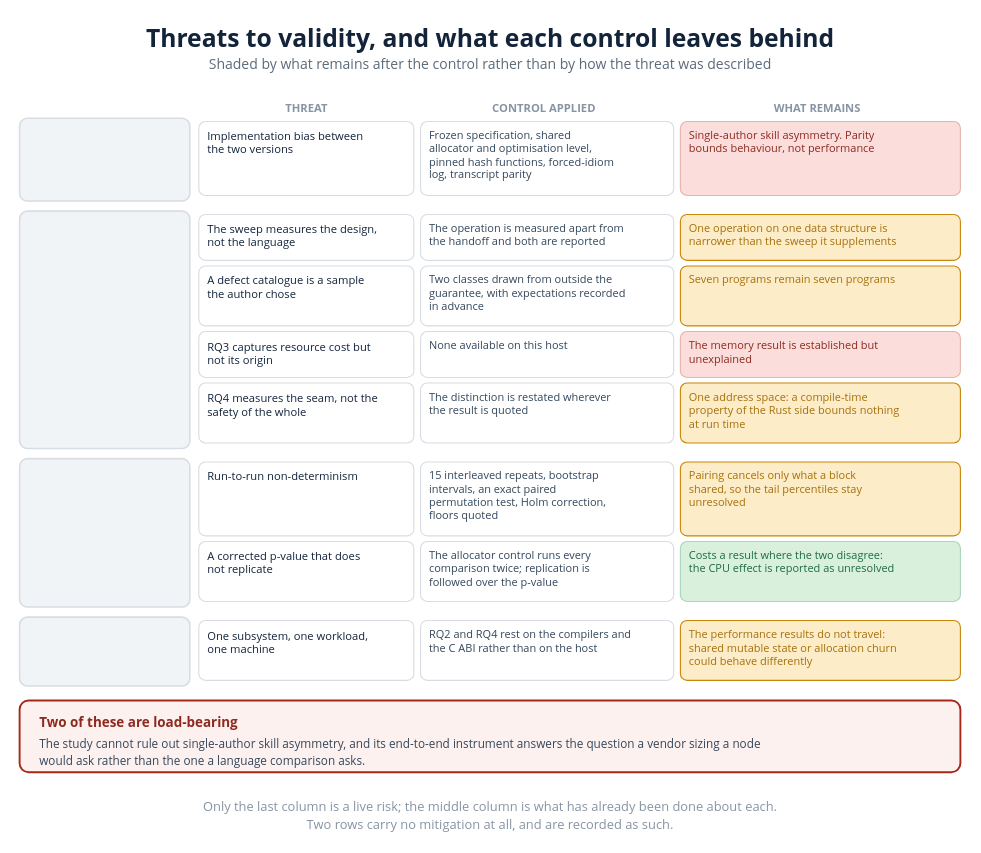
Image size: 981x853. Some labels were removed from this diagram. Here are the shapes that lost their labels. From the top down, the box of each, then its label:
(18, 117, 190, 201): INTERNAL Is the language really the only difference?
(18, 210, 190, 449): CONSTRUCT Do the metrics measure what the questions ask?
(18, 457, 190, 607): CONCLUSION Are the differences real, or noise?
(18, 616, 190, 686): EXTERNAL How far do the results travel?
